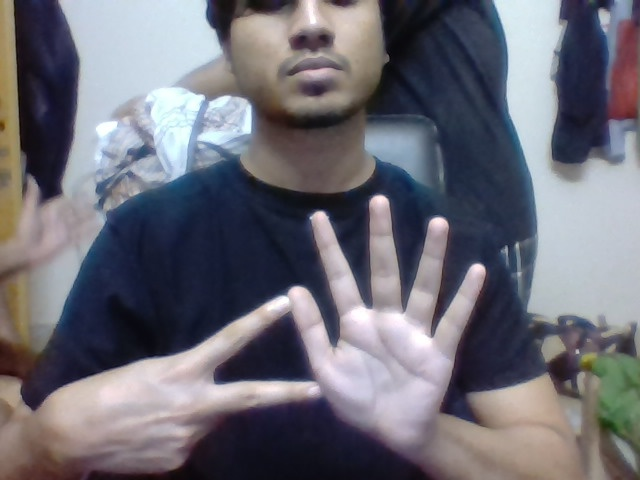N: (178, 291, 289, 418)
